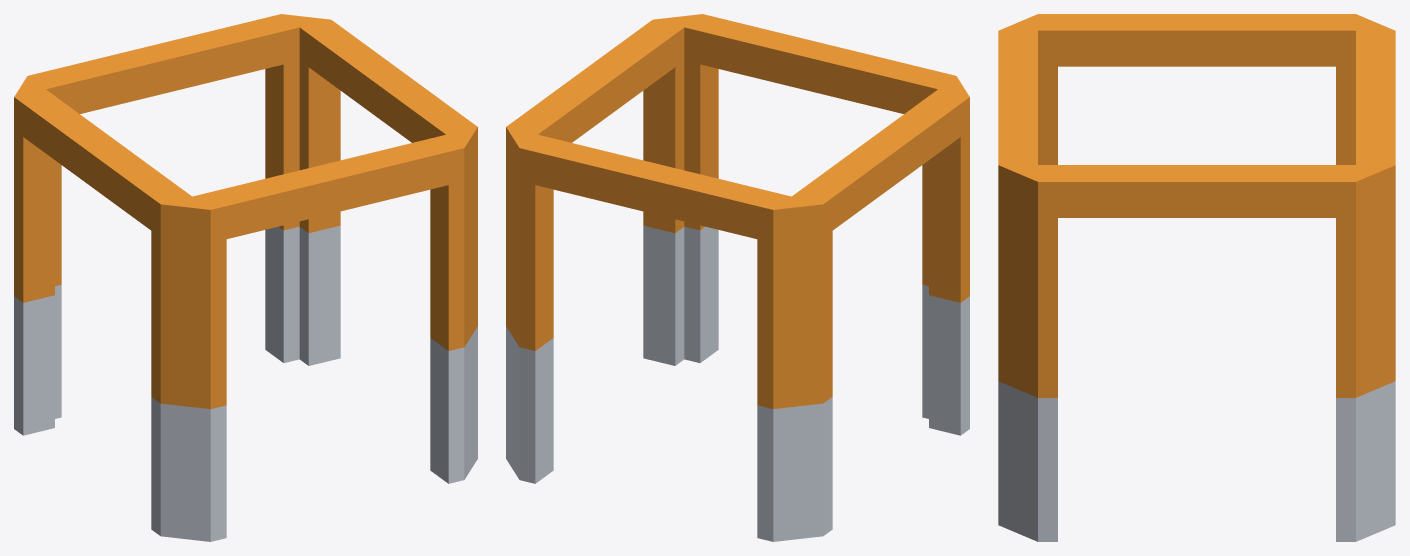
Rendered from structure.glb.
3 renders of one model, left to right at view 1: azimuth 30°, elevation 25°; view 2: azimuth 150°, elevation 25°; view 3: azimuth 270°, elevation 25°, orthographic. The views are drawn at different scales.
Visible parts, largest first — view 1: structure; view 2: structure; view 3: structure.
Boxes of the visible parts, x1,y1,x2,y2 form: structure: (14, 14, 477, 541); structure: (506, 14, 969, 541); structure: (998, 14, 1395, 541).
Bounding box in the file's own units: 1 × 1 × 1.
